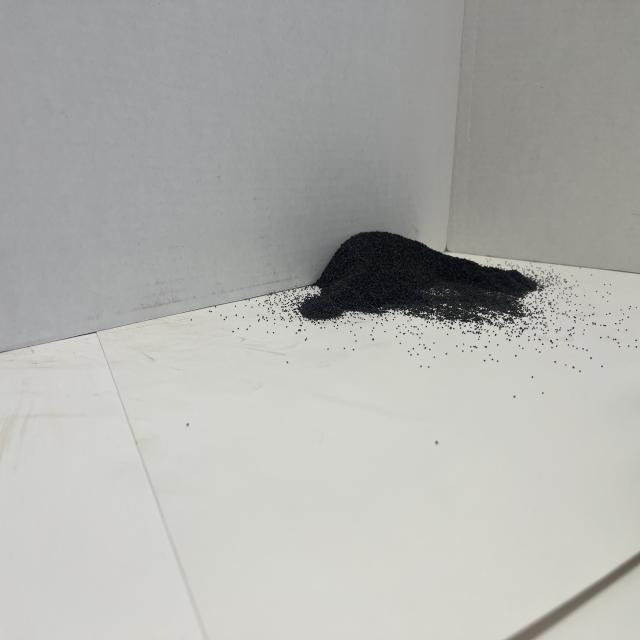Poppy Seeds: (304, 217, 526, 339)
